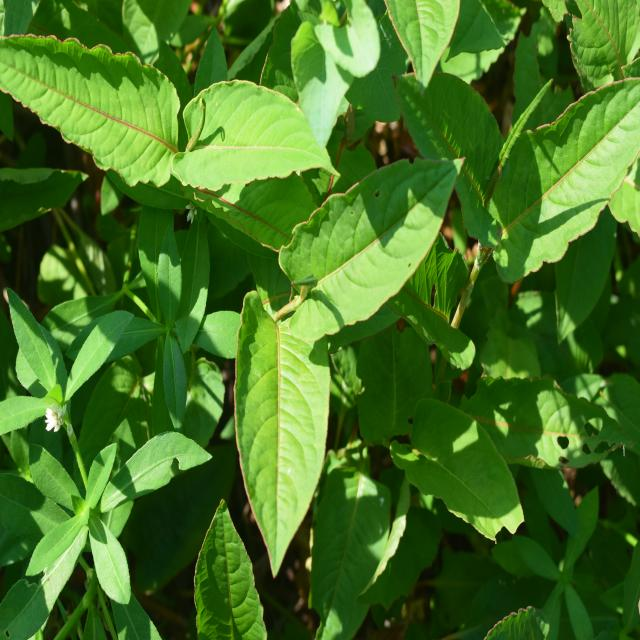Chinese_knotweed: (214, 183, 441, 513), (6, 24, 306, 226)
